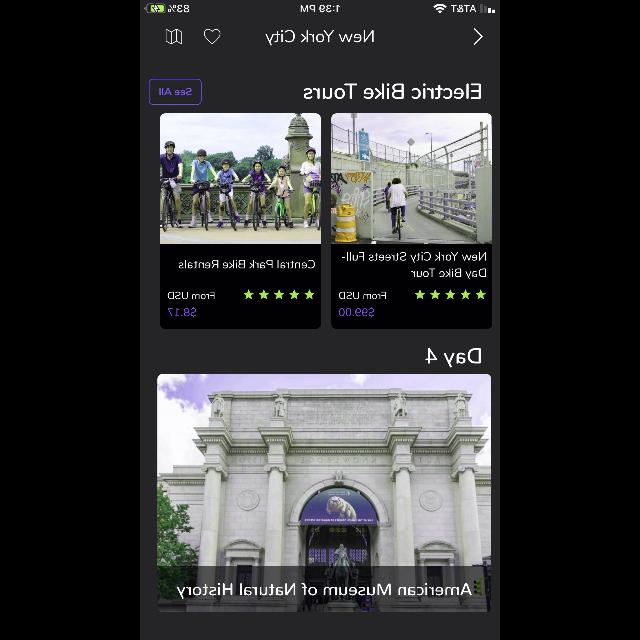icon: (414, 290, 486, 300), (243, 289, 314, 299), (166, 30, 182, 44), (204, 30, 220, 44), (473, 28, 482, 46)
image: (158, 374, 490, 612), (160, 114, 320, 244), (332, 114, 492, 244)
text: (177, 584, 471, 598), (304, 83, 481, 99), (266, 30, 372, 46), (341, 252, 485, 262), (426, 347, 480, 367), (180, 260, 314, 268), (411, 269, 485, 279), (168, 292, 214, 300), (339, 292, 385, 300), (338, 307, 374, 317), (162, 307, 196, 317)
textbutton: (148, 79, 202, 105)
uppertaskbar: (140, 0, 500, 14)
